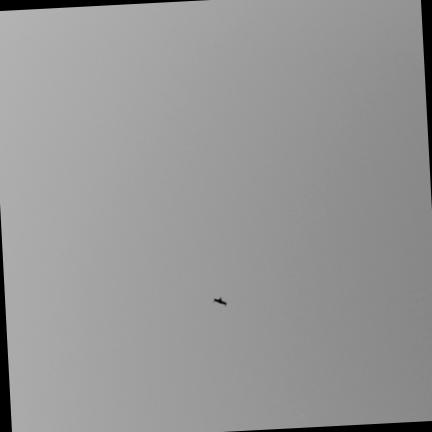Shahed: (213, 298, 225, 306)
